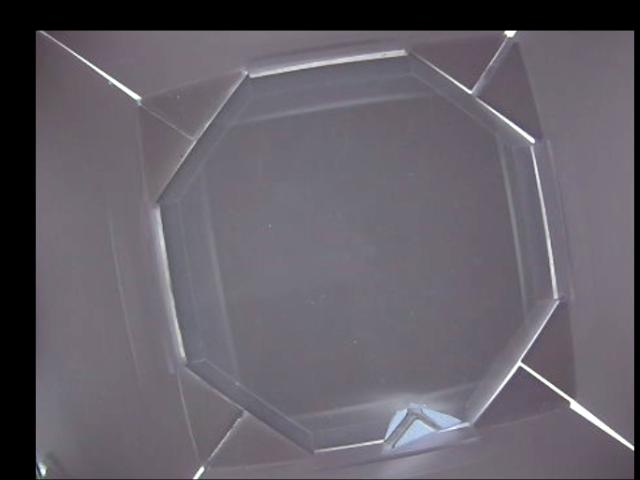China: (384, 404, 472, 450)
